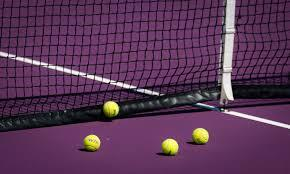Ball: (160, 138, 180, 156), (191, 127, 211, 145), (102, 100, 121, 118), (84, 134, 101, 151)
